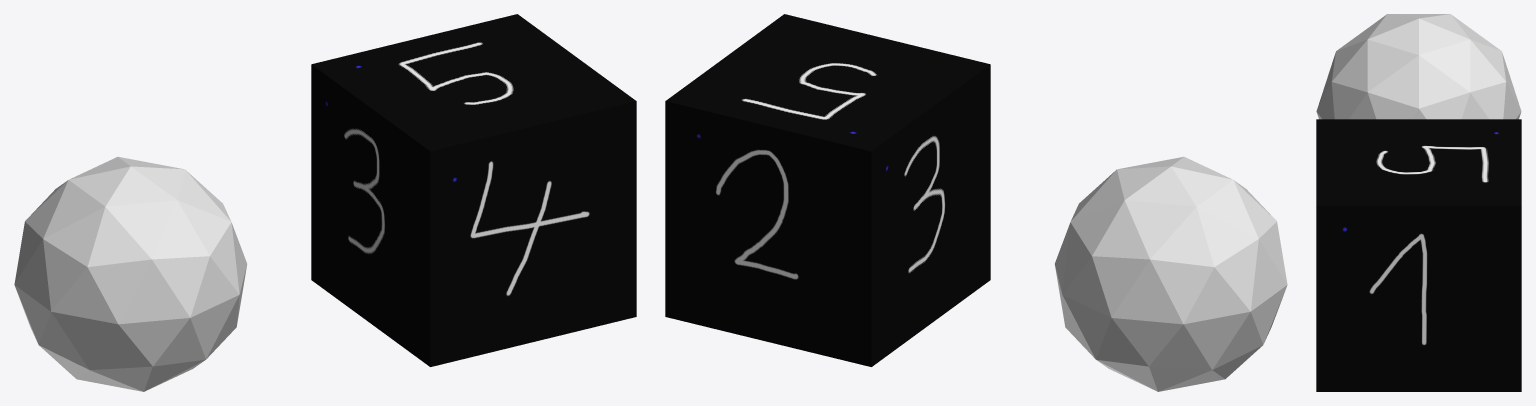
The picture shows the model from 3 angles, left to right: view 1: azimuth 30°, elevation 25°; view 2: azimuth 150°, elevation 25°; view 3: azimuth 270°, elevation 25°; orthographic projection. The views are drawn at different scales.
Visible parts, largest first — view 1: Cube, Icosphere; view 2: Cube, Icosphere; view 3: Cube, Icosphere.
Boxes of the visible parts, x1,y1,x2,y2 form: Cube: (311, 14, 636, 366); Icosphere: (14, 156, 247, 391); Cube: (665, 14, 990, 366); Icosphere: (1054, 156, 1287, 391); Cube: (1316, 119, 1521, 391); Icosphere: (1316, 14, 1521, 119).
Bounding box in the file's own units: 5.28 × 2 × 2.
Materials: 1 (1 with a texture image).
